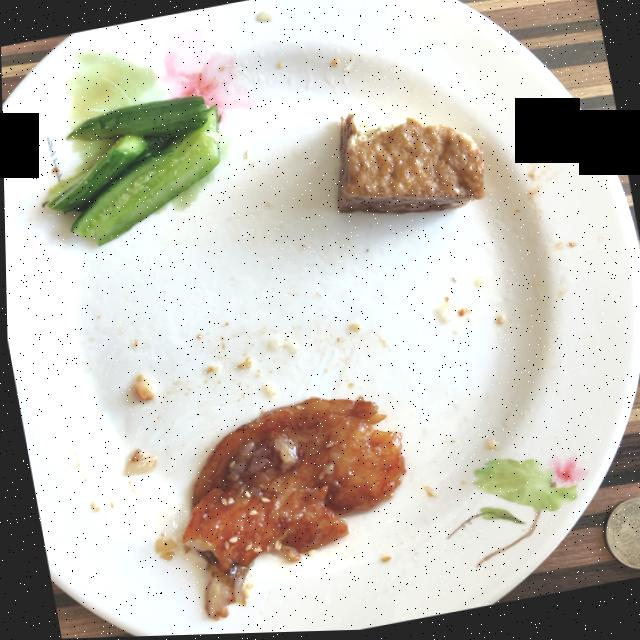Kabayaki sea bream fillet: (180, 399, 403, 621)
coin: (602, 501, 640, 573)
cucumber: (45, 97, 219, 246)
egg tofu: (336, 116, 482, 217)
